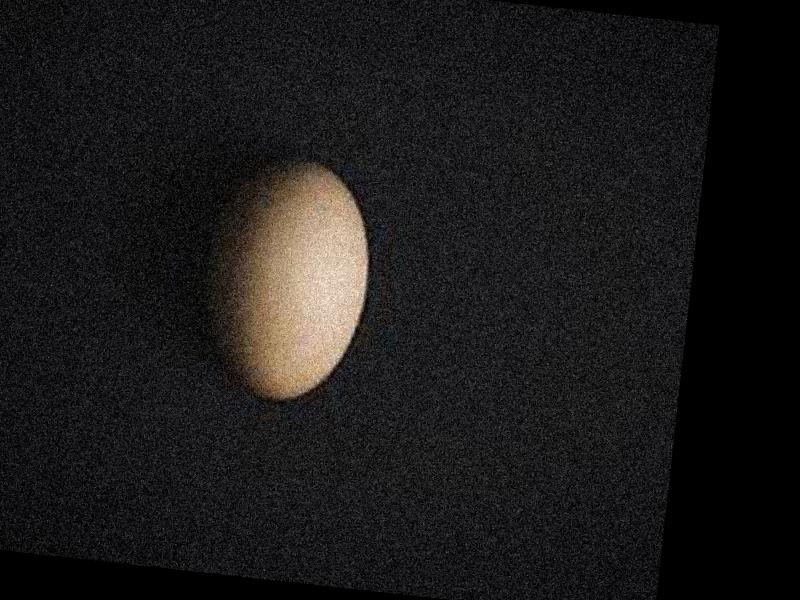Eggs: (199, 148, 379, 413)
